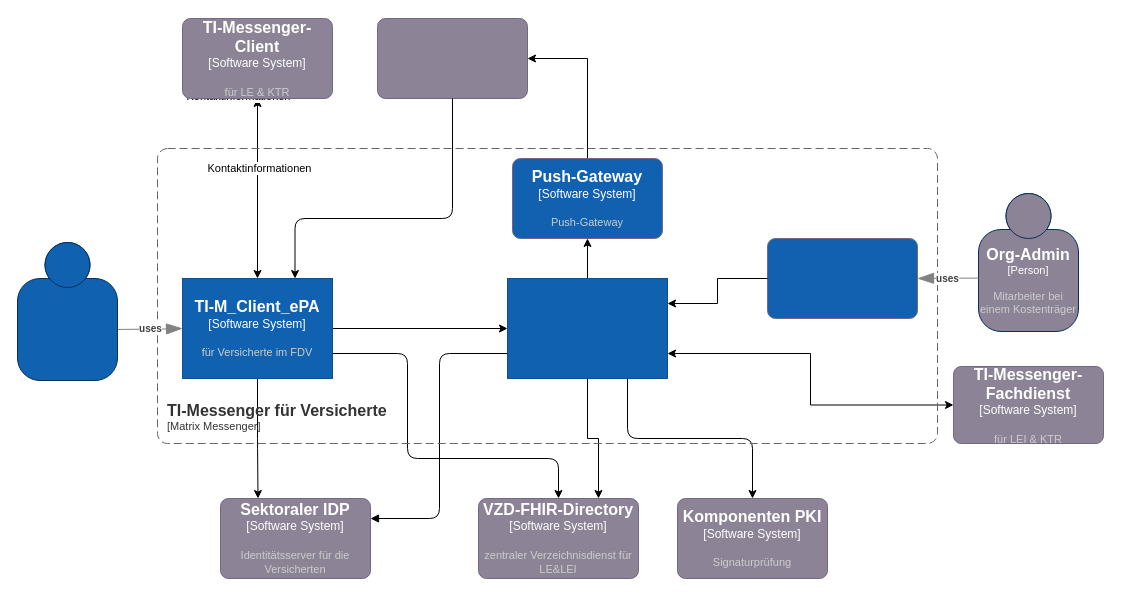
This 1121x596 diagram has some shape labels left out. The shapes that lost their labels are listed below. From the top down, each one's box as (x1, y1, x2, y2) in pixels, then its label:
(376, 18, 528, 98): Push-Provider [Software System] z.B. FCM, APN
(766, 238, 918, 318): Org-Admin Client [Software System] für TI-M FD ePA
(16, 242, 118, 380): Versicherter [Person] Versicherter bei einer Krankenkasse
(506, 278, 668, 378): TI-M_FD_ePA [Software System] für Versicherte
